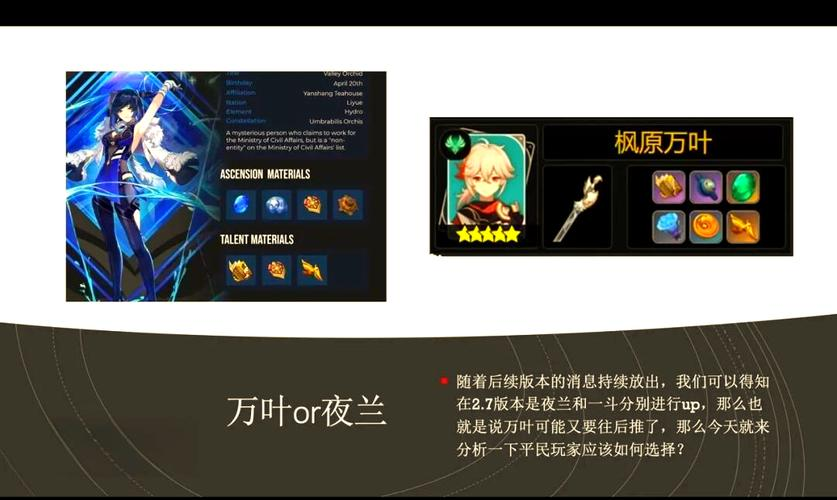夜兰: (84, 74, 185, 306)
